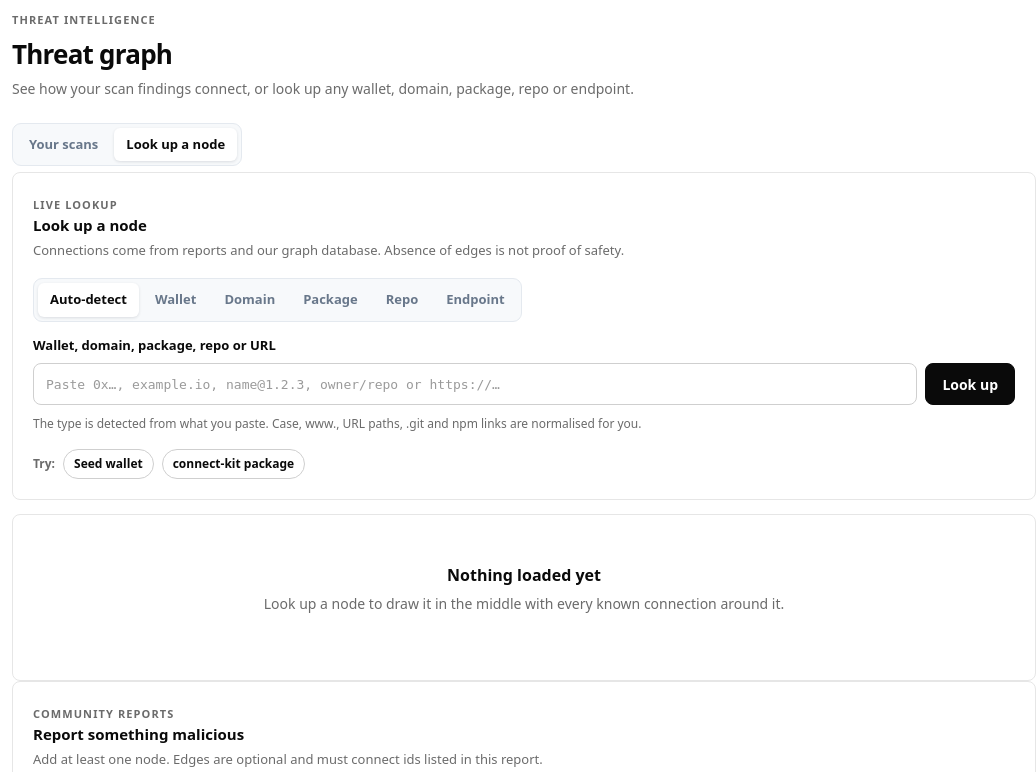
Test: lookup errors say what is wrong instead of sending a request
Type "evil" into the field with id "graph-id".
click(475, 384); type("evil")  # box top-left (33, 363), bottom-right (917, 405)
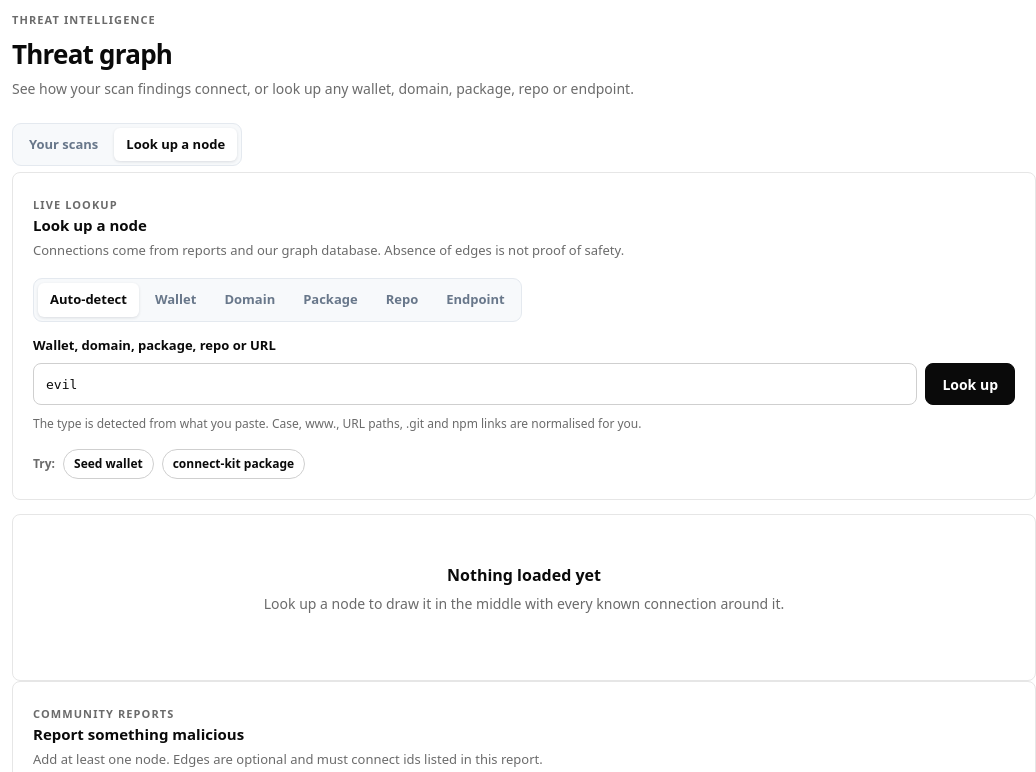
Click the radio button labelled "Package".
click(330, 300)  # box top-left (291, 283), bottom-right (370, 317)
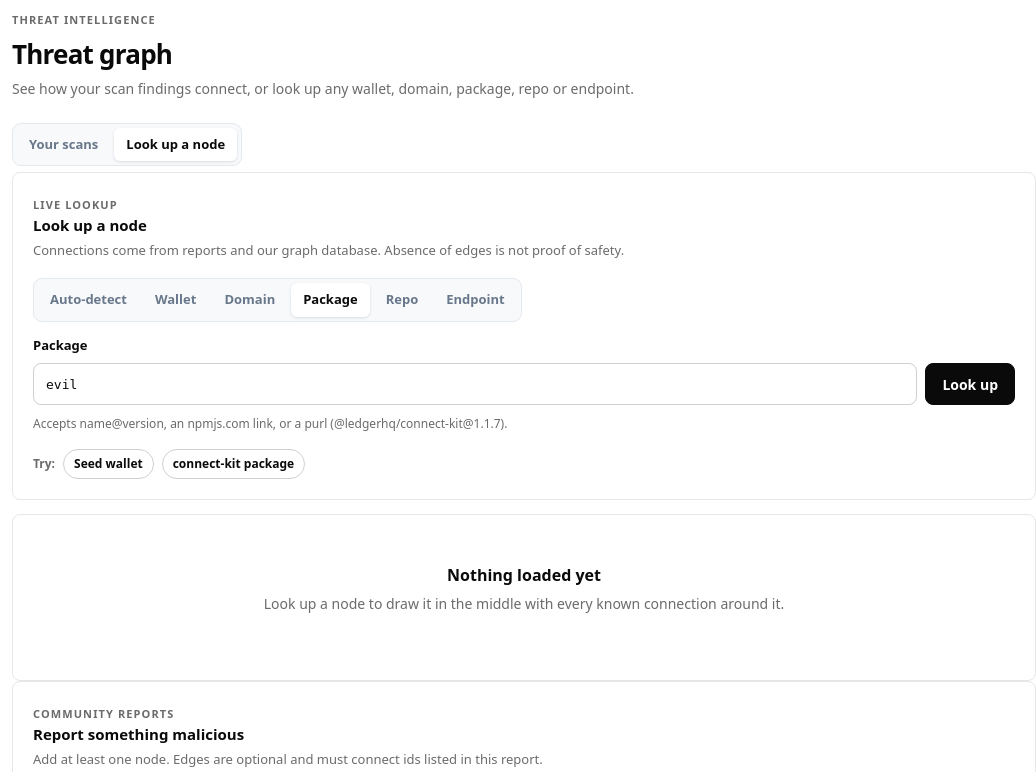
Submit the form with id "graph-form", box top-left (33, 278), bottom-right (1015, 435)
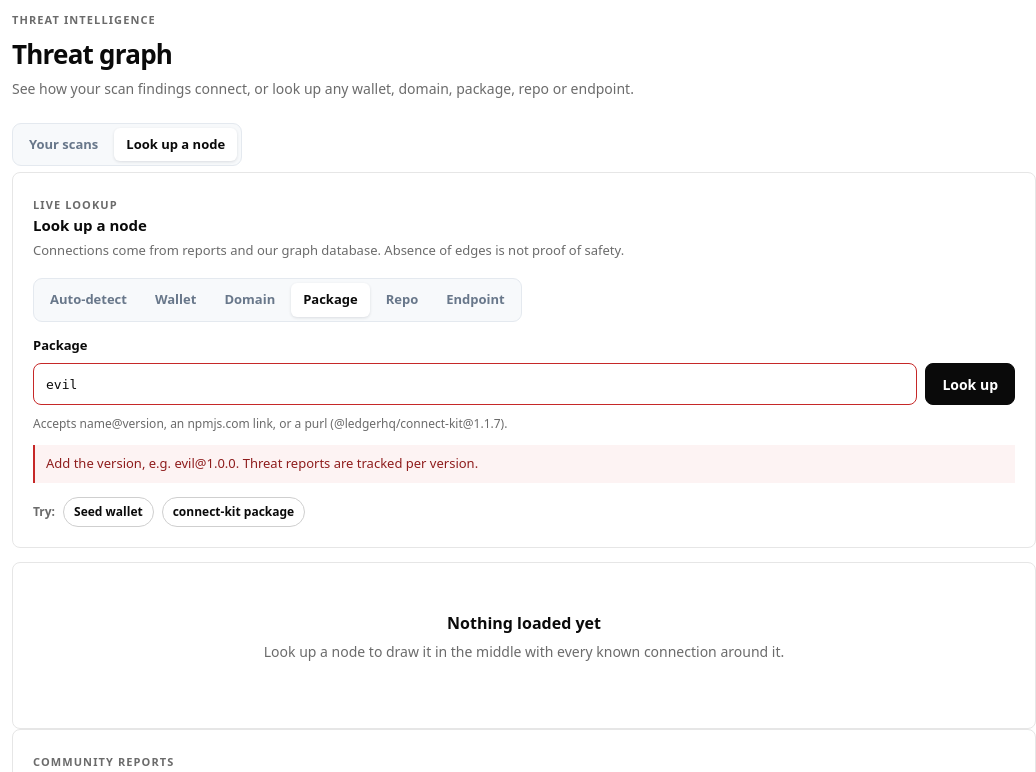
Expected: the message shows "Add the version, e.g. evil@1.0.0", top-left (46, 454), bottom-right (478, 472)
